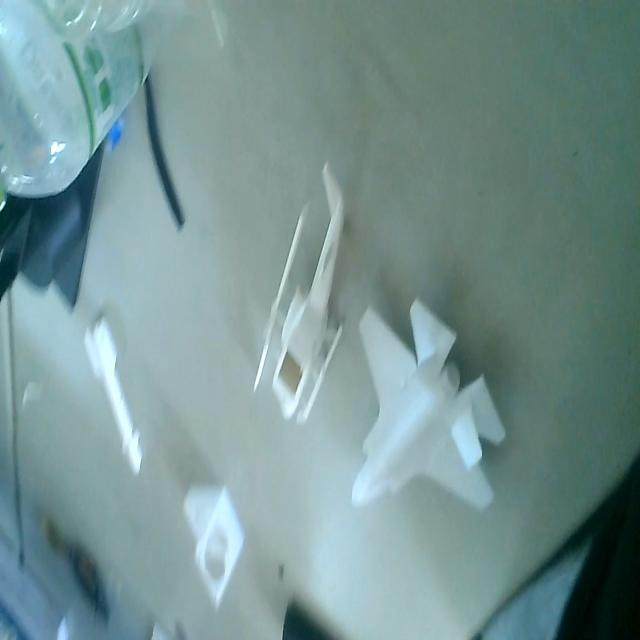Helicopter: (256, 158, 348, 432)
Jet: (348, 300, 504, 542)
Rocket: (81, 314, 146, 484)
